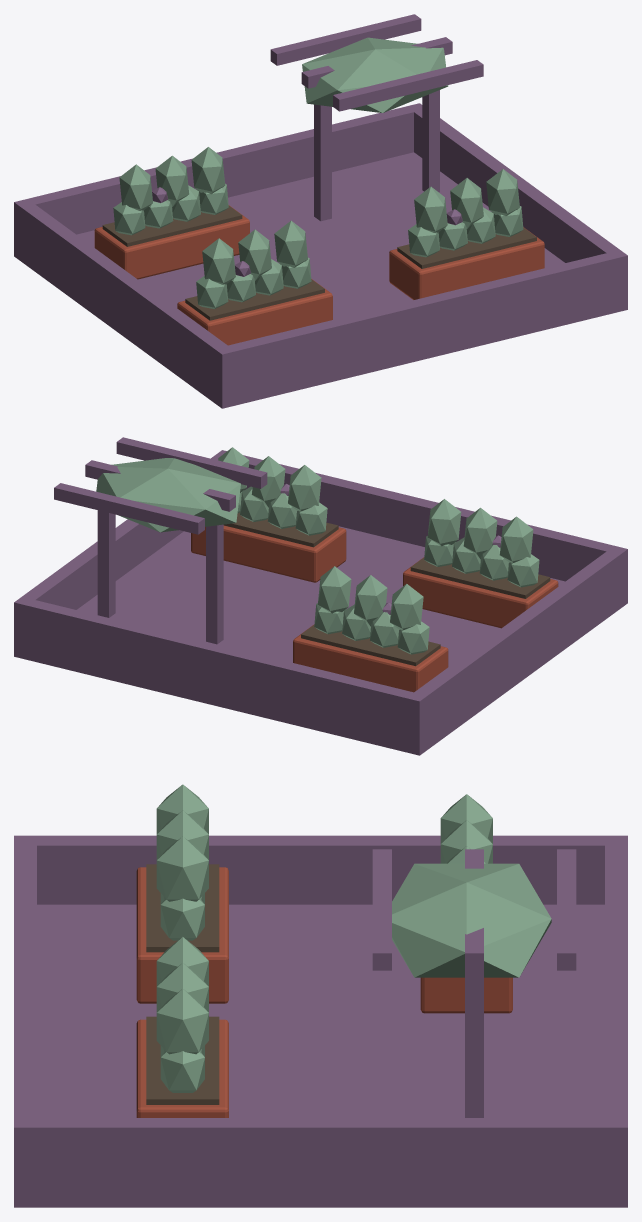
File: roof_garden_gardens.glb
3 views of the same model, one above another, from view 1: azimuth 30°, elevation 25°; view 2: azimuth 150°, elevation 25°; view 3: azimuth 270°, elevation 25° (orthographic). The views are drawn at different scales.
Parts seen in each view (by area): view 1: roof_garden_gardens patina, roof_garden_gardens leaf, roof_garden_gardens clay, roof_garden_gardens pine, roof_garden_gardens soil, roof_garden_gardens plum; view 2: roof_garden_gardens patina, roof_garden_gardens leaf, roof_garden_gardens clay, roof_garden_gardens pine, roof_garden_gardens soil; view 3: roof_garden_gardens patina, roof_garden_gardens pine, roof_garden_gardens leaf, roof_garden_gardens clay, roof_garden_gardens soil.
Boxes of the visible parts, left/top/right/bottom form: roof_garden_gardens patina: left=14, top=14, right=627, bottom=408; roof_garden_gardens leaf: left=113, top=147, right=519, bottom=308; roof_garden_gardens clay: left=94, top=205, right=544, bottom=345; roof_garden_gardens pine: left=144, top=37, right=523, bottom=302; roof_garden_gardens soil: left=102, top=205, right=536, bottom=320; roof_garden_gardens plum: left=152, top=187, right=462, bottom=276; roof_garden_gardens patina: left=14, top=437, right=627, bottom=755; roof_garden_gardens leaf: left=218, top=447, right=539, bottom=654; roof_garden_gardens clay: left=191, top=525, right=558, bottom=692; roof_garden_gardens pine: left=96, top=458, right=508, bottom=647; roof_garden_gardens soil: left=224, top=512, right=550, bottom=666; roof_garden_gardens patina: left=14, top=835, right=627, bottom=1207; roof_garden_gardens pine: left=160, top=863, right=551, bottom=1092; roof_garden_gardens leaf: left=156, top=784, right=492, bottom=1056; roof_garden_gardens clay: left=136, top=867, right=512, bottom=1117; roof_garden_gardens soil: left=146, top=864, right=219, bottom=1104.
Bounding box in the file's own units: 0.9 × 0.365 × 0.8.
